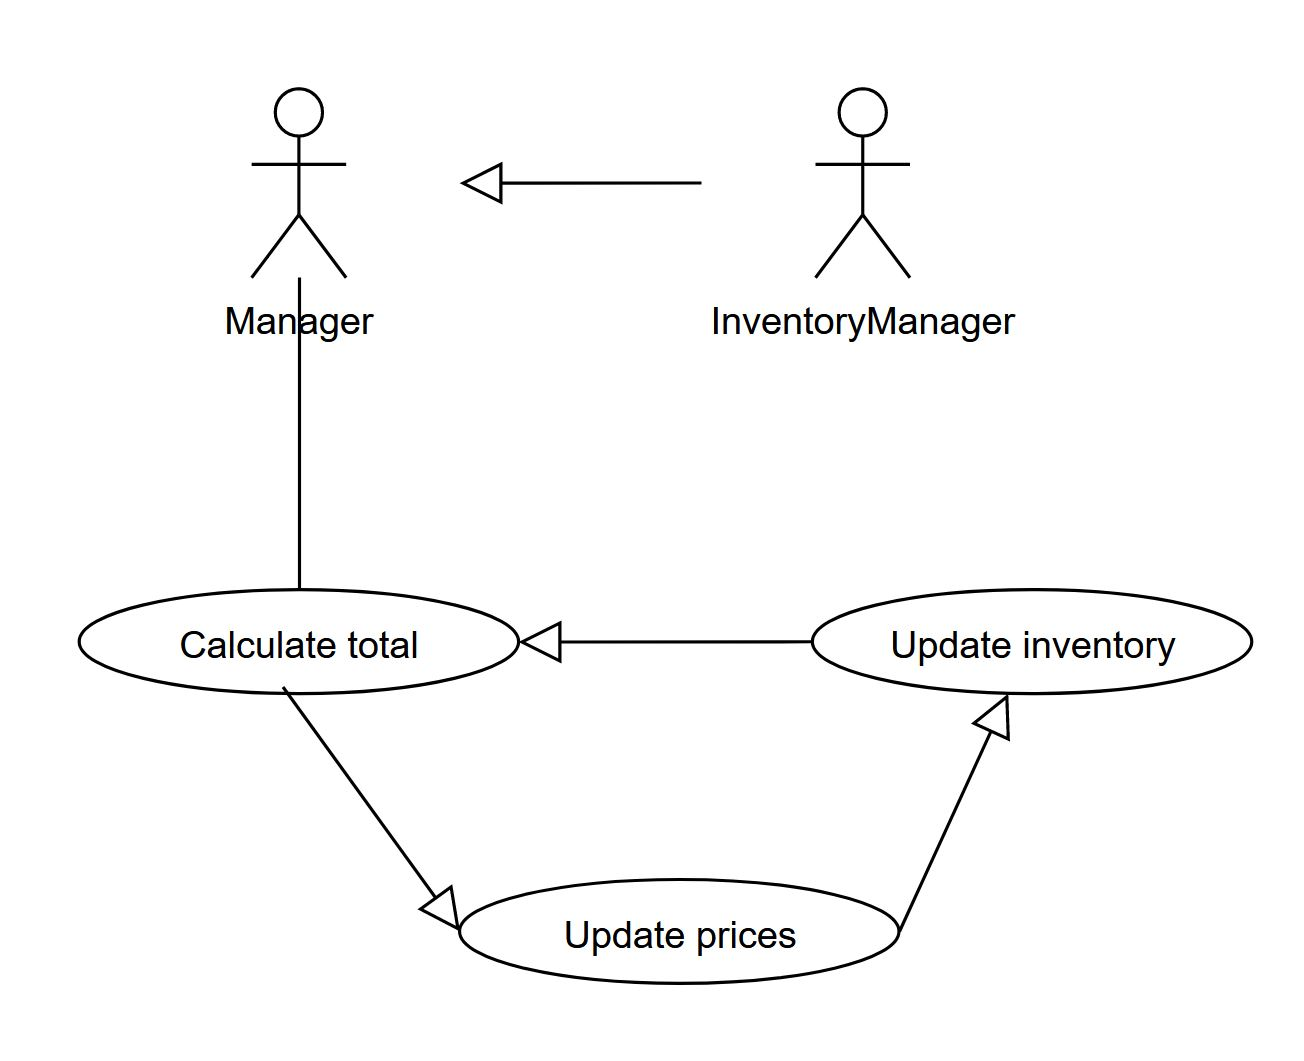actor: (243, 86, 358, 288), (809, 78, 918, 283)
association: (282, 274, 322, 587)
generalization: (285, 693, 461, 931), (900, 694, 1020, 934), (452, 154, 712, 204), (521, 620, 812, 663)
text: (885, 621, 1177, 671), (701, 306, 1033, 345), (175, 623, 431, 664), (563, 921, 808, 957), (218, 299, 386, 348)
use_case: (453, 875, 901, 988), (73, 586, 519, 699), (811, 584, 1252, 696)
